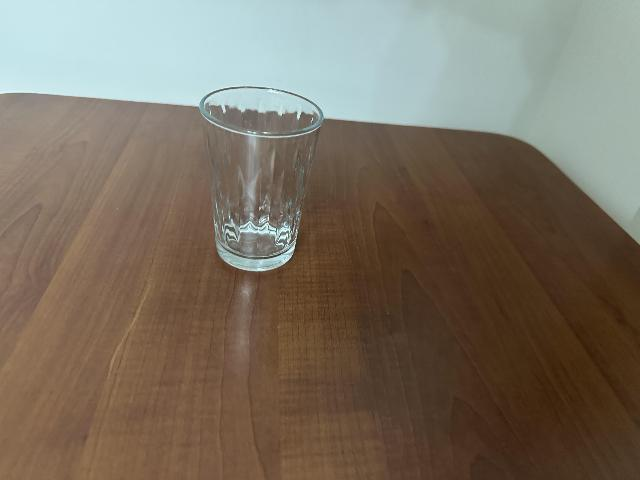Cam: (192, 79, 327, 273)
